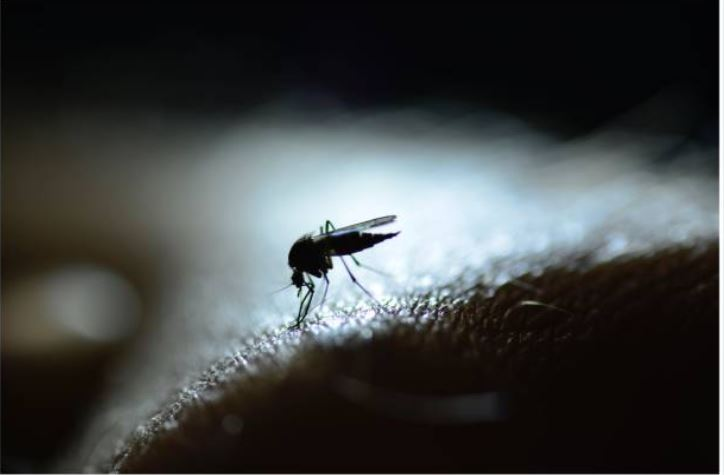dengue_mosquito: (286, 213, 401, 328)
